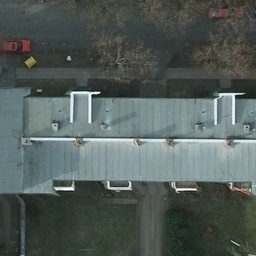car: (206, 4, 244, 21), (0, 36, 34, 54)
